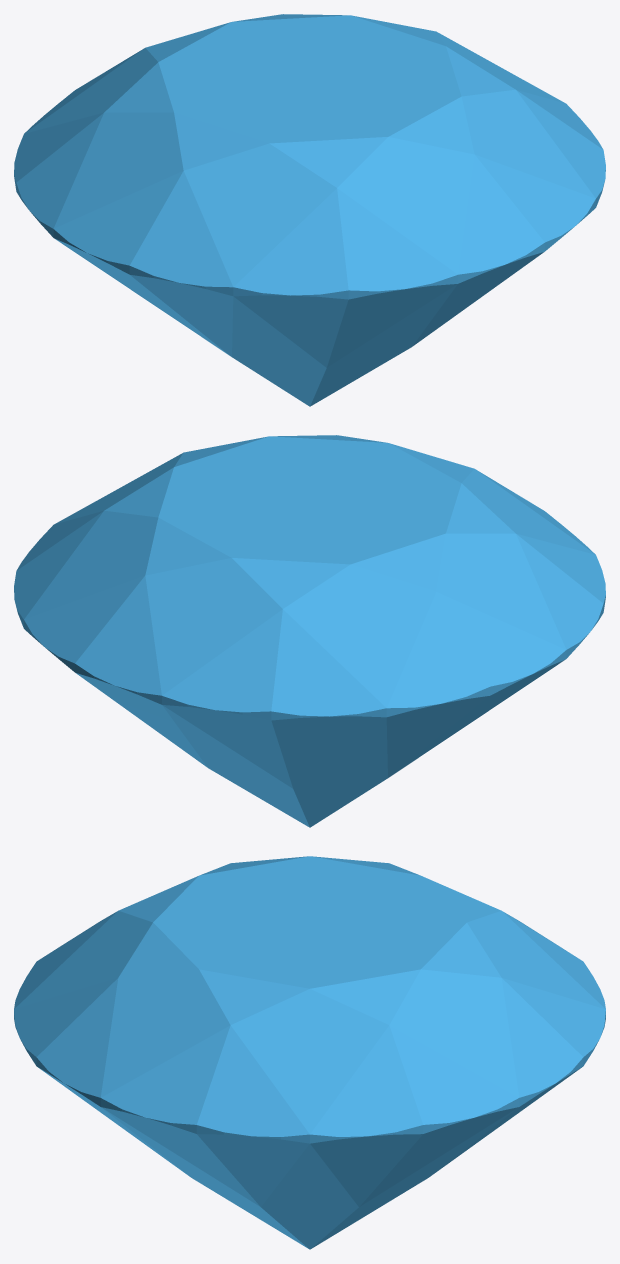
Rendered from Diamond_pieces.fbx.
The picture shows the model from 3 angles, top to bottom: view 1: azimuth 30°, elevation 25°; view 2: azimuth 150°, elevation 25°; view 3: azimuth 270°, elevation 25°; orthographic projection.
Visible parts, largest first — view 1: Diamond_piece_top, Diamond_piece_bottom; view 2: Diamond_piece_top, Diamond_piece_bottom; view 3: Diamond_piece_top, Diamond_piece_bottom.
Part boxes in pixels (box(x1,y1,x2,y2)): Diamond_piece_top: box(14, 14, 605, 318); Diamond_piece_bottom: box(105, 272, 506, 406); Diamond_piece_top: box(14, 435, 605, 739); Diamond_piece_bottom: box(113, 693, 514, 827); Diamond_piece_top: box(14, 856, 605, 1161); Diamond_piece_bottom: box(82, 1099, 537, 1249).
Size of the model in its own units: 900 by 549 by 900.
